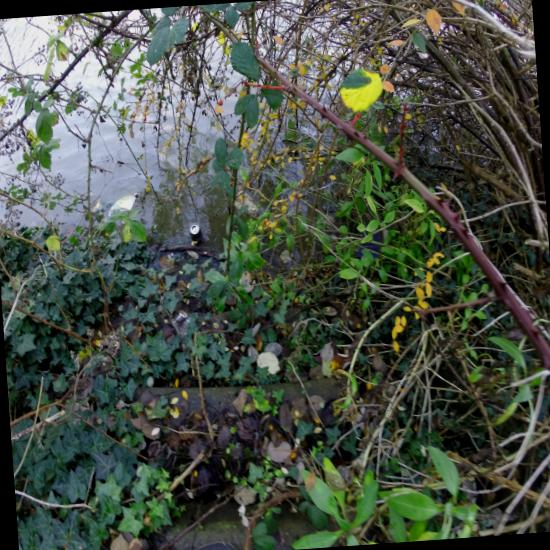Drink can: (189, 222, 202, 240)
Plastic film: (108, 195, 136, 217)
